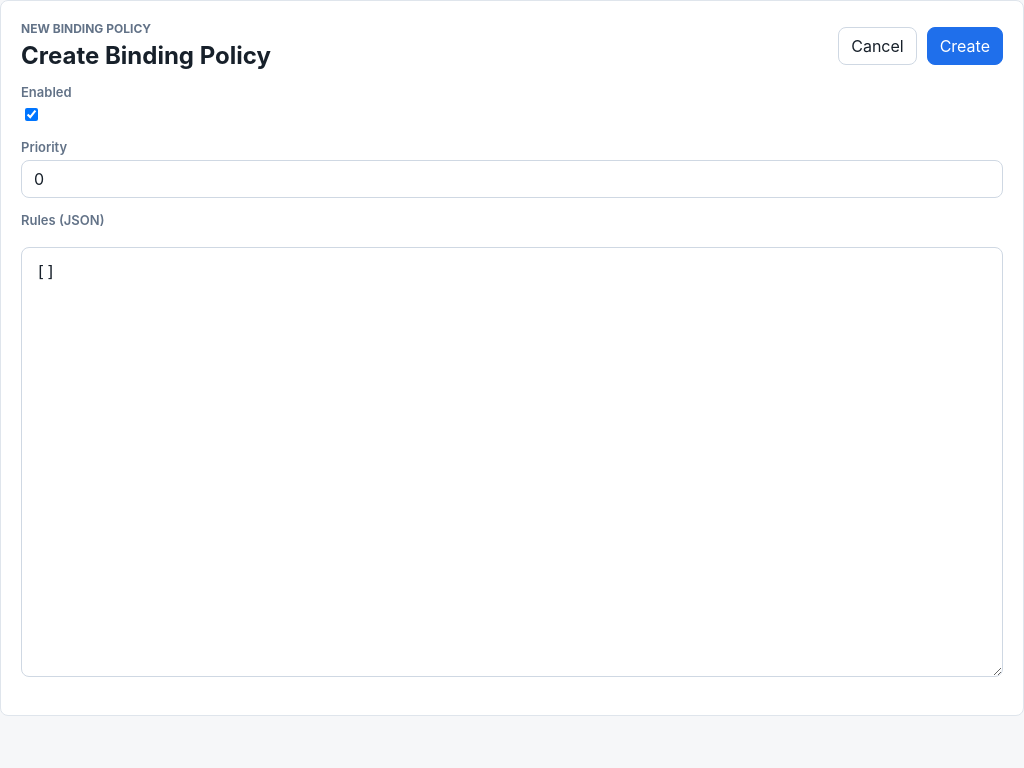
Test: BindingPolicyForm › blocks submit when rules are empty
Clear the text box named "Binding policy rules JSON" at (512, 462), box [21, 247, 1003, 677]
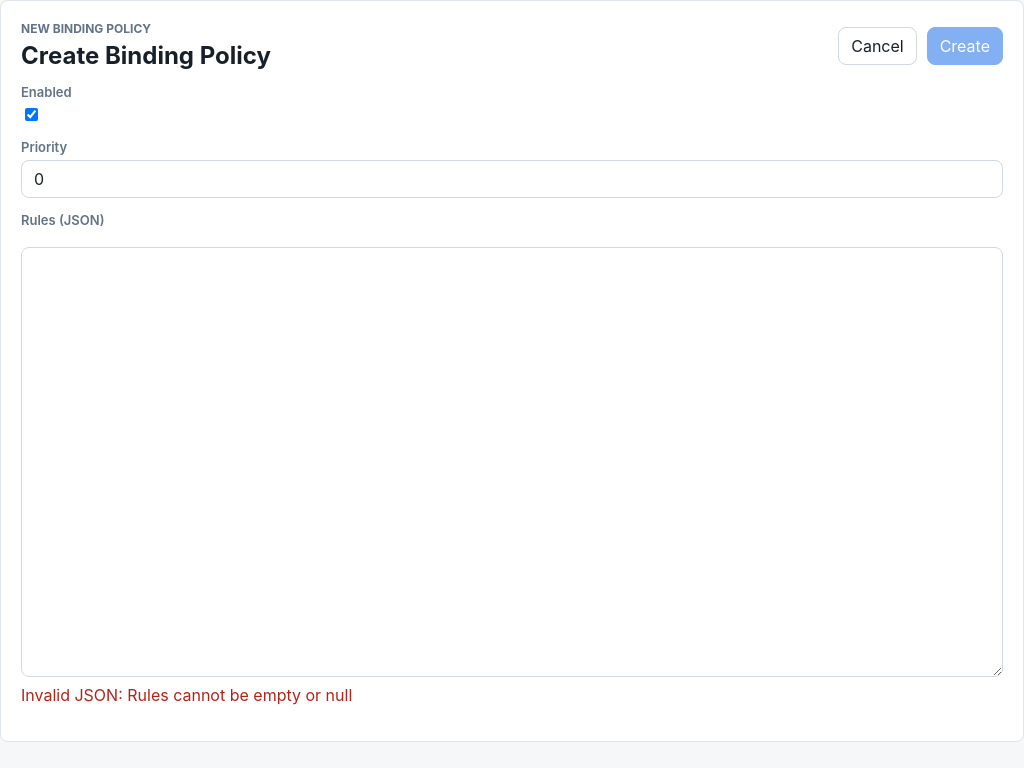
expect the text "Invalid JSON: Rules cannot be empty or null" is shown: met, box [21, 685, 352, 705]
expect the button "Create" is disabled: met, box [927, 26, 1003, 64]
